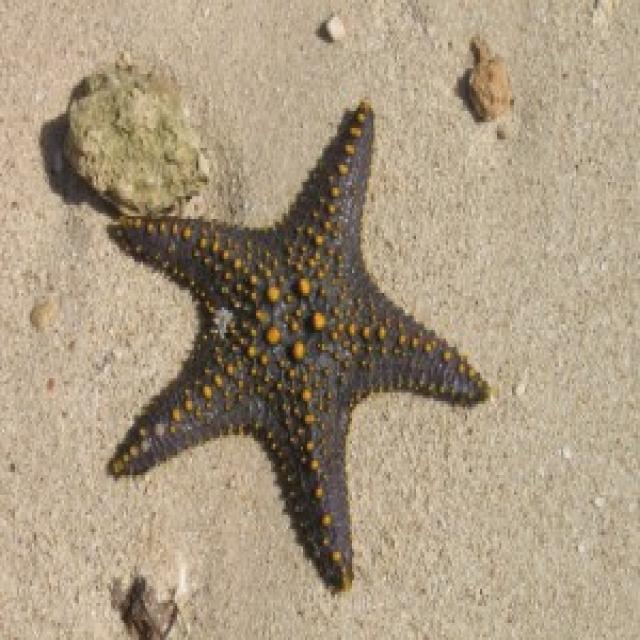Starfish: (109, 88, 492, 594)
